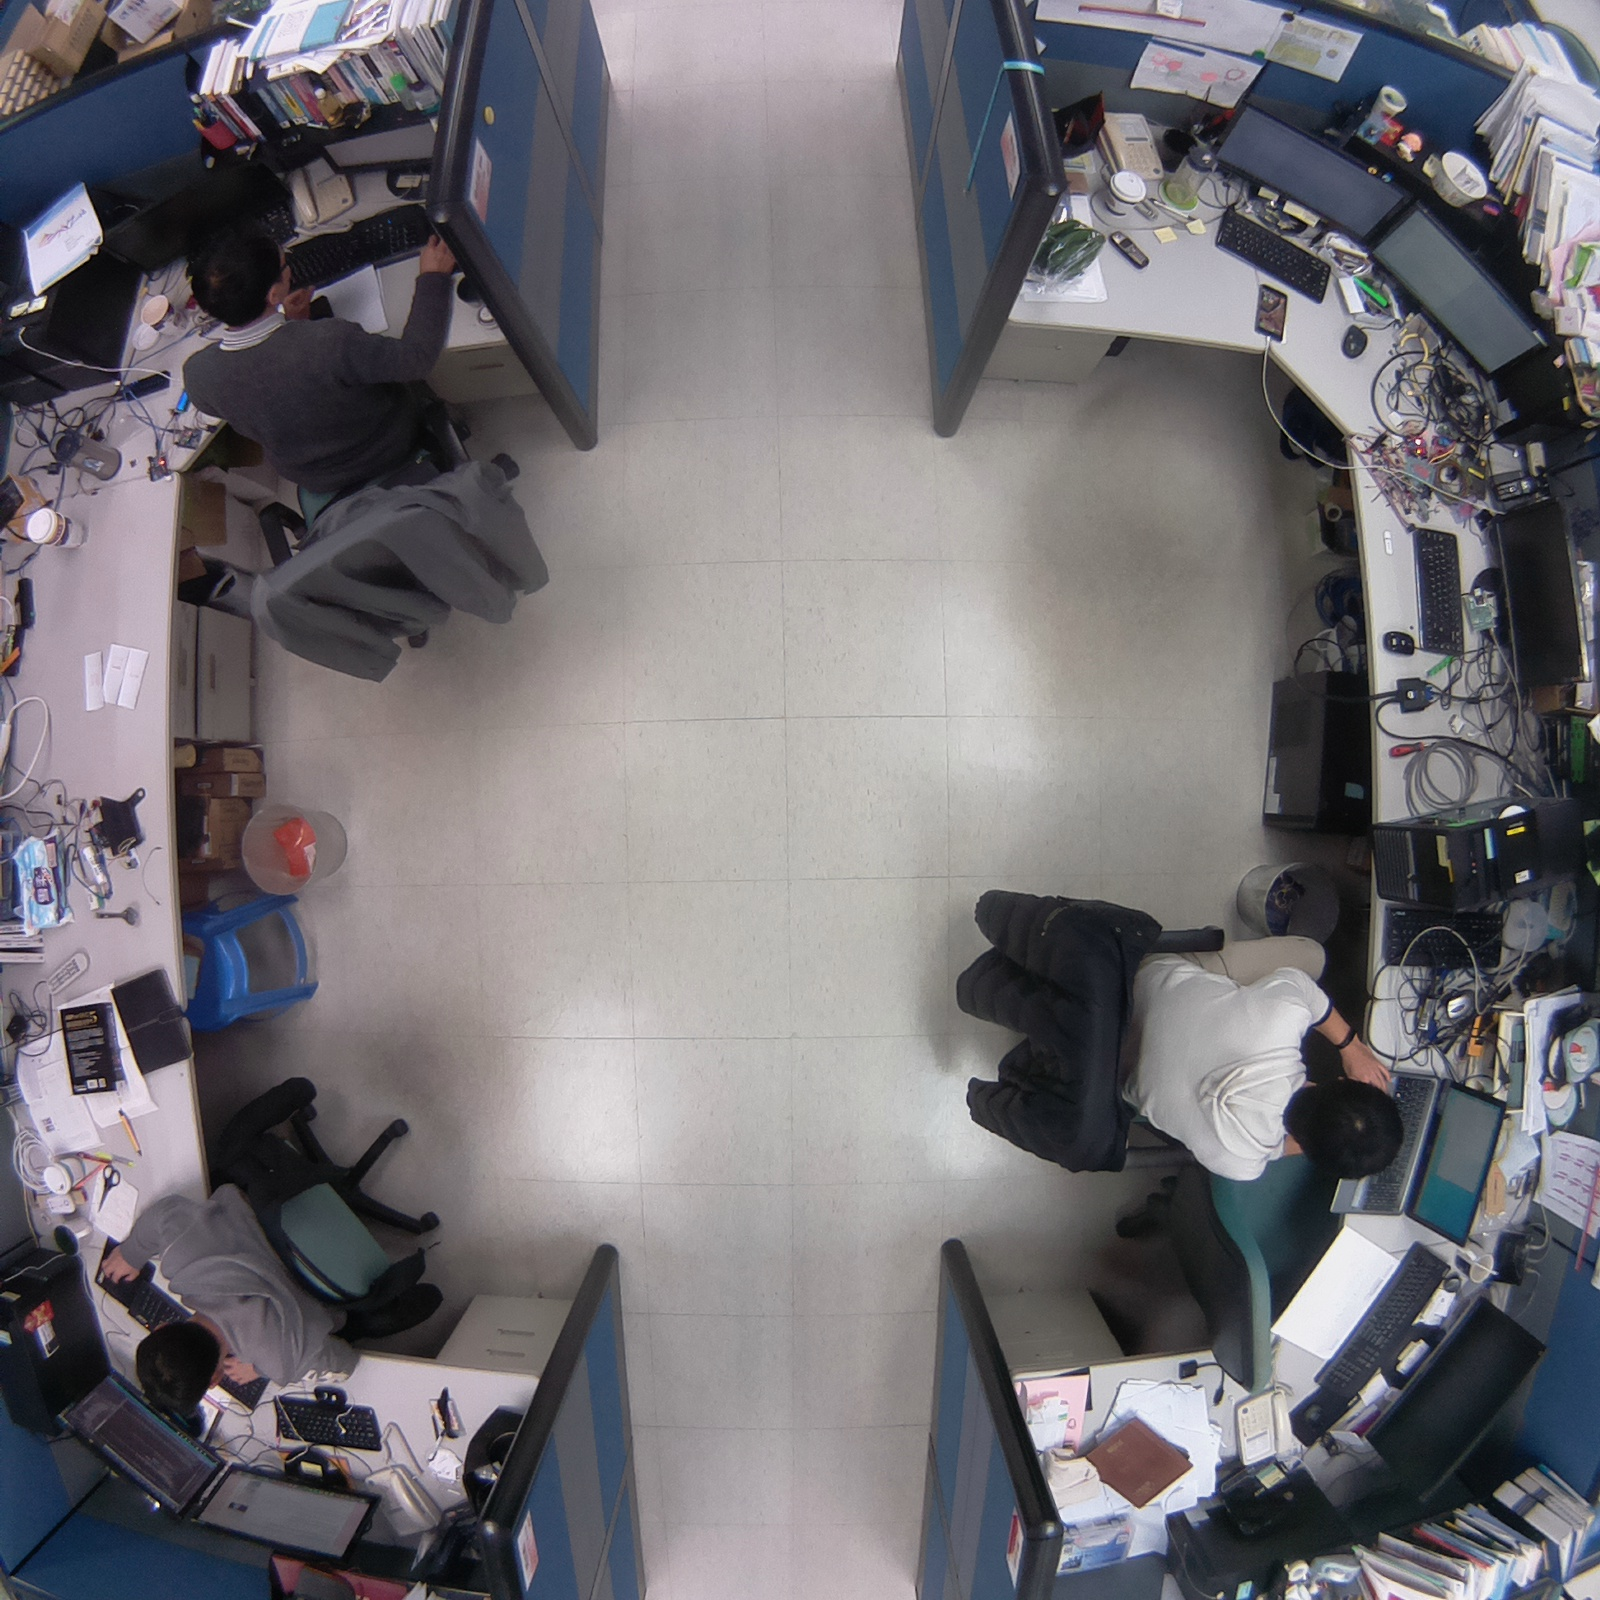chair: (1122, 1145, 1383, 1406)
head: (1283, 1070, 1404, 1185), (180, 221, 297, 321), (127, 1321, 227, 1429)
sitting: (165, 206, 570, 704), (932, 870, 1413, 1191), (85, 1058, 455, 1418)
